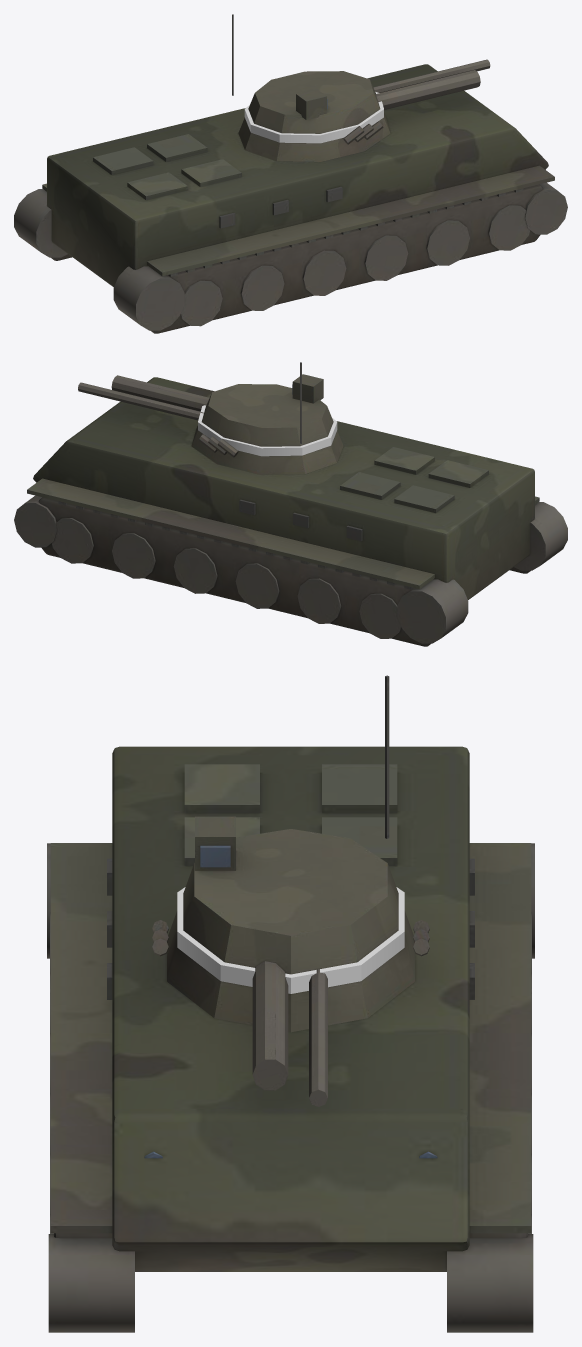
Rendered from bmp3.glb.
The picture shows the model from 3 angles, top to bottom: view 1: azimuth 30°, elevation 25°; view 2: azimuth 150°, elevation 25°; view 3: azimuth 270°, elevation 25°; orthographic projection. The views are drawn at different scales.
Parts seen in each view (by area): view 1: g_bmp3_hull, g_bmp3_turret, g_bmp3_gun; view 2: g_bmp3_hull, g_bmp3_turret, g_bmp3_gun; view 3: g_bmp3_hull, g_bmp3_turret, g_bmp3_gun.
Boxes of the visible parts, x1=… form: g_bmp3_hull: x1=14, y1=14, x2=567, y2=333; g_bmp3_turret: x1=238, y1=71, x2=390, y2=161; g_bmp3_gun: x1=373, y1=59, x2=490, y2=109; g_bmp3_hull: x1=14, y1=362, x2=567, y2=646; g_bmp3_turret: x1=191, y1=374, x2=343, y2=474; g_bmp3_gun: x1=78, y1=375, x2=209, y2=420; g_bmp3_hull: x1=47, y1=675, x2=534, y2=1332; g_bmp3_turret: x1=152, y1=816, x2=429, y2=1032; g_bmp3_gun: x1=252, y1=961, x2=327, y2=1106.
Size of the model in its own units: 7.27 by 3.56 by 3.55.
4 materials, 3 textured.
